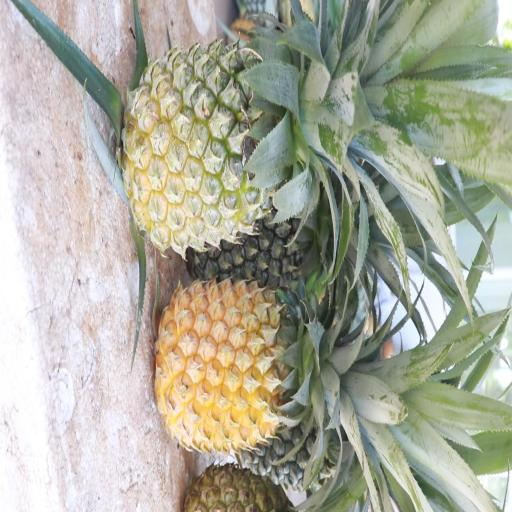------------------------------: (129, 46, 337, 248)
Pineapple - v8 v1: (156, 279, 330, 454)
